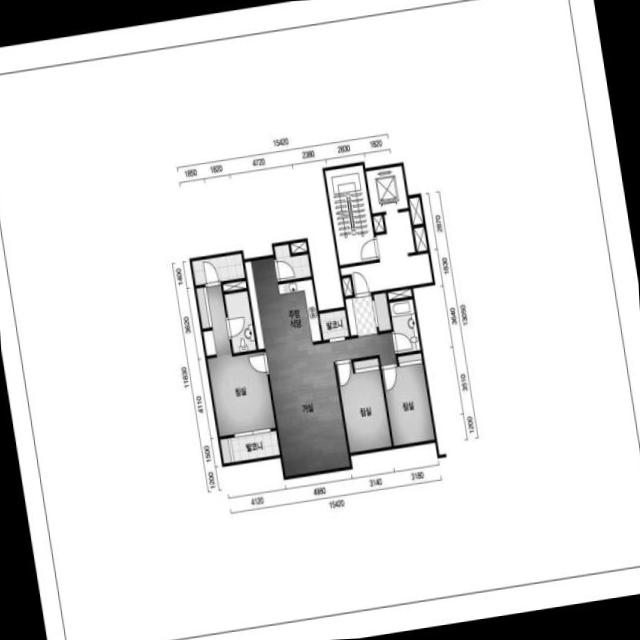background: (0, 0, 640, 640)
space_balconi: (220, 431, 279, 463), (191, 253, 245, 285), (274, 244, 311, 281), (319, 310, 348, 339)
space_bedroom: (196, 285, 275, 436), (336, 358, 391, 452), (382, 353, 434, 445)
space_elevator: (366, 165, 408, 213)
space_elevator_hall: (340, 211, 432, 294)
space_front: (345, 293, 391, 335)
space_kitchen: (278, 279, 321, 349)
space_living_room: (245, 257, 396, 476)
space_other: (408, 197, 427, 251), (387, 288, 411, 299), (222, 280, 246, 291), (290, 241, 307, 253), (373, 215, 384, 232), (342, 277, 352, 295)
space_staircase: (325, 165, 377, 265)
space_toilet: (224, 291, 256, 353), (389, 299, 420, 353)
